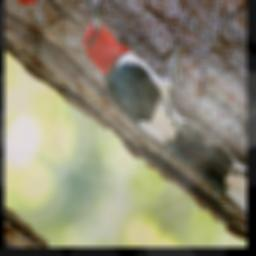Woodpecker: (63, 0, 236, 171)
